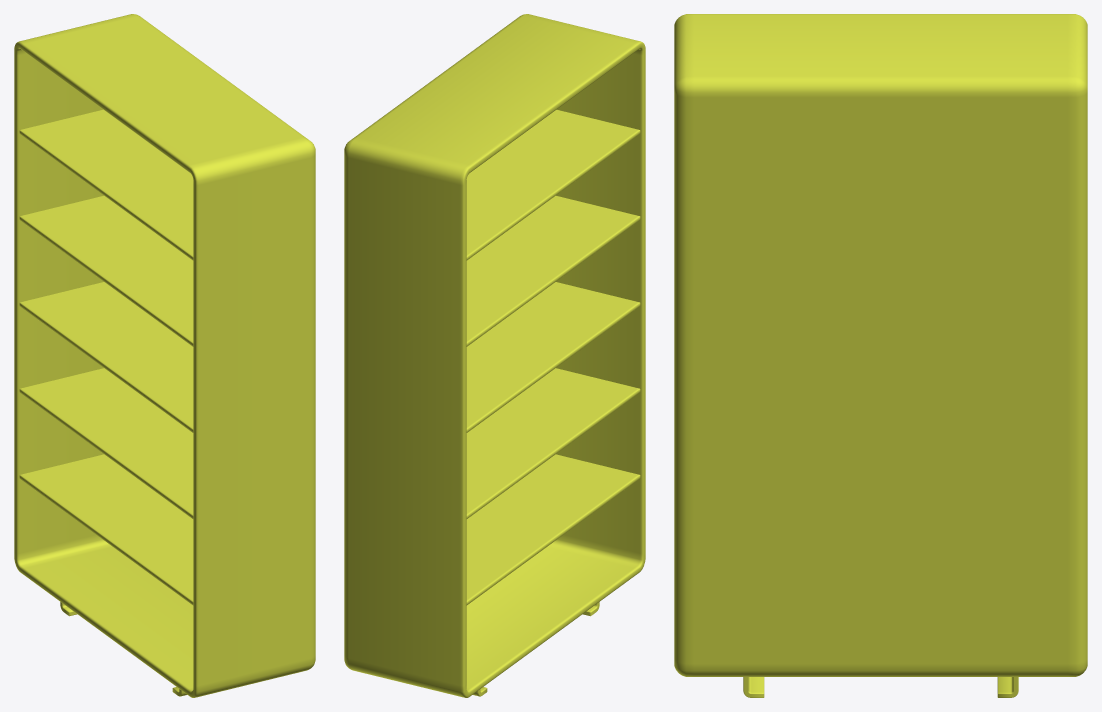
File: Shelves02.fbx
3 renders of one model, left to right at view 1: azimuth 30°, elevation 25°; view 2: azimuth 150°, elevation 25°; view 3: azimuth 270°, elevation 25°, orthographic. The views are drawn at different scales.
Visible parts, largest first — view 1: SM_Shelves02; view 2: SM_Shelves02; view 3: SM_Shelves02.
Boxes of the visible parts, <box> form: SM_Shelves02: <box>14,14,315,697</box>; SM_Shelves02: <box>344,14,645,697</box>; SM_Shelves02: <box>674,14,1087,697</box>.
Size of the model in its own units: 0.5874 by 2.5 by 1.5.
